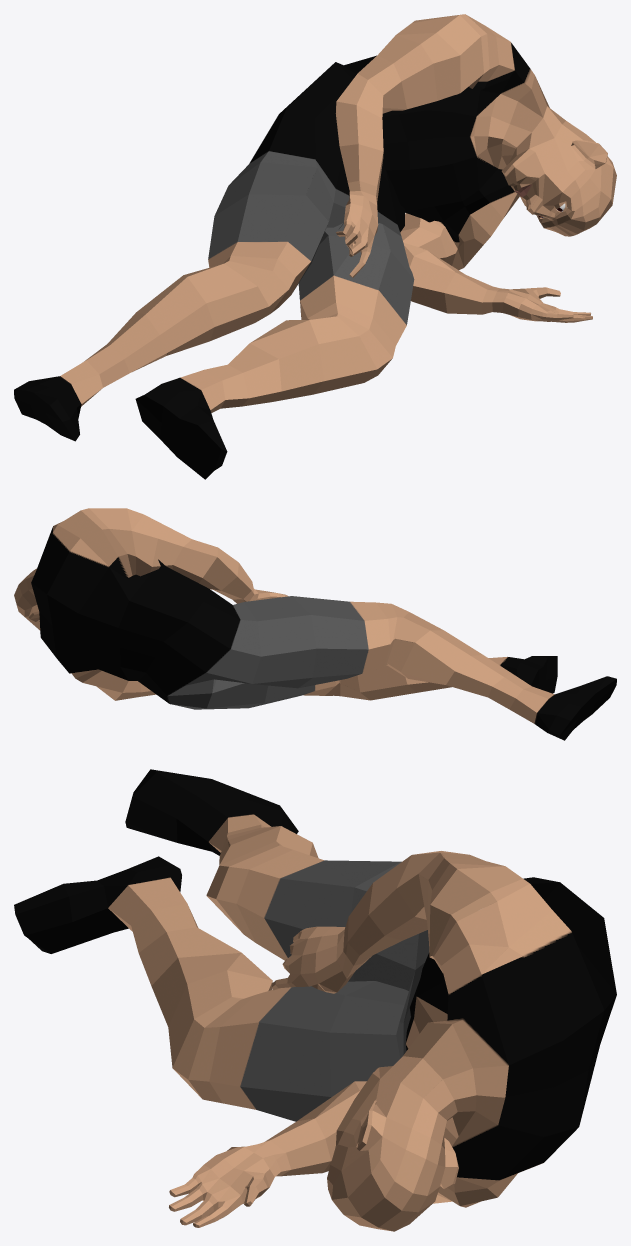
Rendered from PlayerDead(81).obj.
3 views of the same model, one above another, from view 1: azimuth 30°, elevation 25°; view 2: azimuth 150°, elevation 25°; view 3: azimuth 270°, elevation 25° (orthographic). The views are drawn at different scales.
Visible parts, largest first — view 1: Plane002; view 2: Plane002; view 3: Plane002.
Part boxes in pixels (x1,y1,x2,y2): Plane002: (14,14,616,479); Plane002: (14,508,616,740); Plane002: (14,769,616,1231).
Bounding box in the file's own units: 1568 × 563 × 902.
